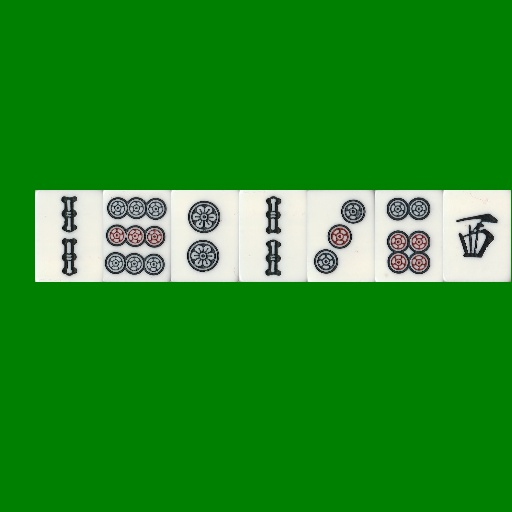2p: (171, 190, 239, 282)
2s: (35, 190, 103, 282), (239, 190, 307, 282)
3p: (307, 190, 375, 282)
6p: (375, 190, 443, 282)
9p: (103, 190, 171, 282)
west: (443, 190, 511, 282)
